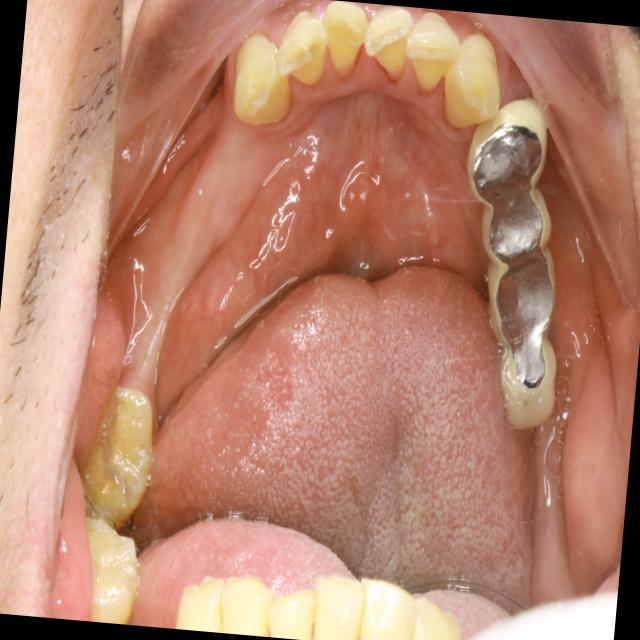tooth: (76, 375, 169, 542), (460, 76, 554, 214), (435, 10, 520, 150), (474, 238, 571, 353), (484, 323, 575, 444), (224, 23, 308, 138), (464, 179, 562, 273), (264, 0, 346, 101), (397, 6, 471, 109), (314, 0, 383, 95), (356, 3, 424, 95)
